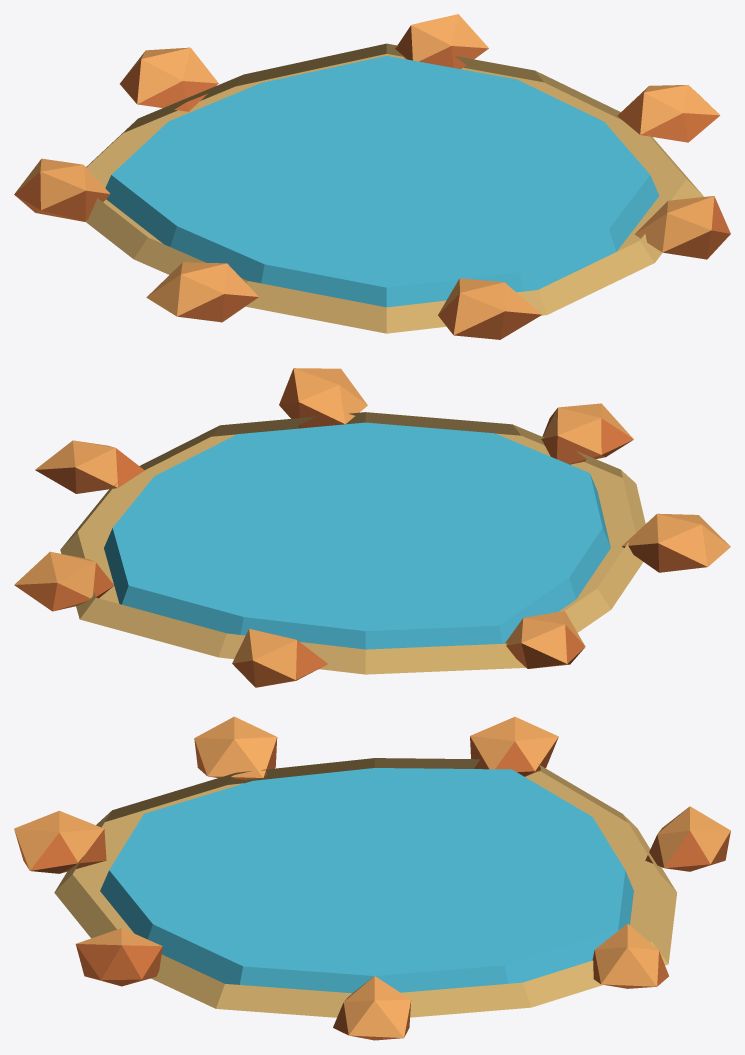
The model's file is CA_Oasis_Estanque.obj.
3 renders of one model, top to bottom at view 1: azimuth 30°, elevation 25°; view 2: azimuth 150°, elevation 25°; view 3: azimuth 270°, elevation 25°, orthographic. The views are drawn at different scales.
Parts seen in each view (by area): view 1: CA_Oasis_Estanque; view 2: CA_Oasis_Estanque; view 3: CA_Oasis_Estanque.
Boxes of the visible parts, box(x1,y1,x2,y2) form: CA_Oasis_Estanque: box(14, 14, 730, 339); CA_Oasis_Estanque: box(14, 368, 730, 687); CA_Oasis_Estanque: box(14, 716, 730, 1040).
Bounding box in the file's own units: 7.76 × 0.5407 × 7.76.
